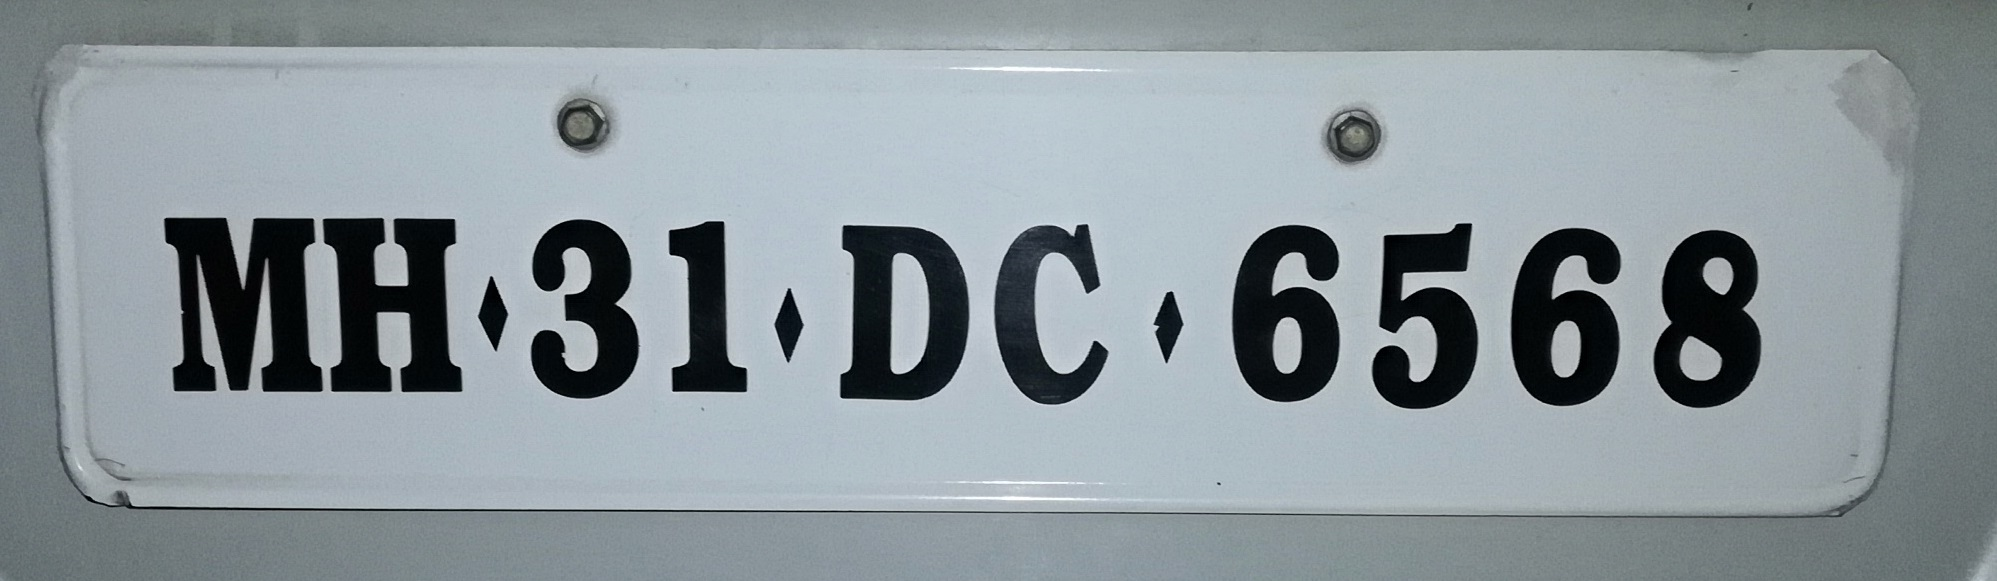numberplate: (32, 33, 1915, 530)
